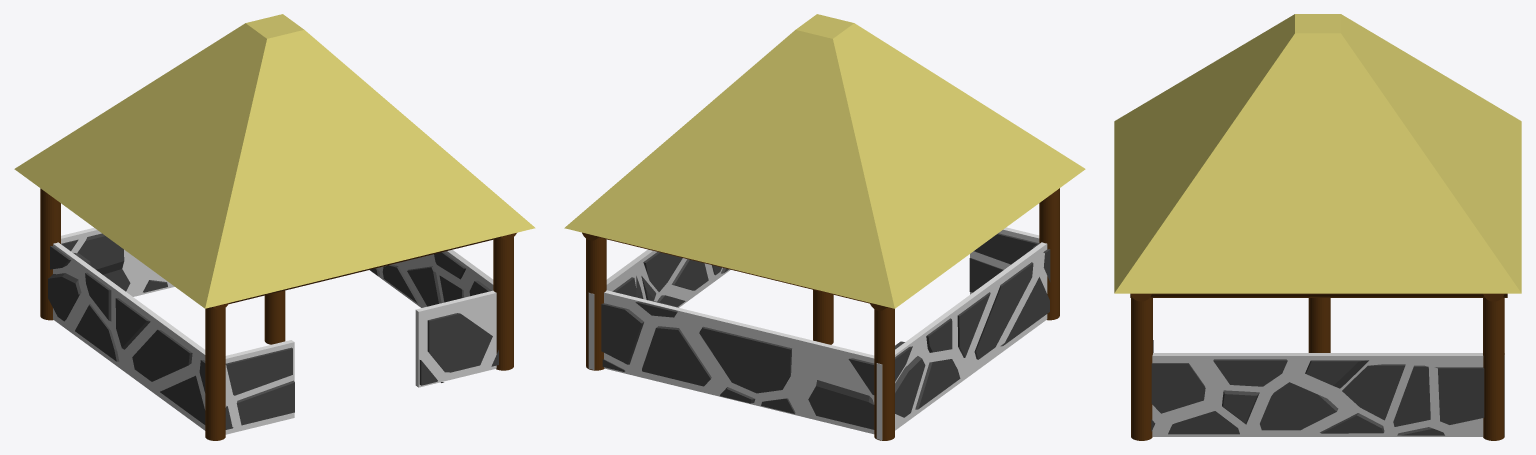
Rendered from Hut.fbx.
3 renders of one model, left to right at view 1: azimuth 30°, elevation 25°; view 2: azimuth 150°, elevation 25°; view 3: azimuth 270°, elevation 25°, orthographic. The views are drawn at different scales.
Parts seen in each view (by area): view 1: Roof, Wall Chunks, Struts, Wall.004, Wall.002, Wall.001, Wall.003, Wall; view 2: Roof, Wall Chunks, Wall, Struts, Wall.004, Wall.003, Wall.001; view 3: Roof, Wall Chunks, Wall.003, Struts.
Part boxes in pixels (<box>): Roof: <box>14,14,535,308</box>; Wall Chunks: <box>48,233,498,429</box>; Struts: <box>40,188,516,440</box>; Wall.004: <box>53,242,205,430</box>; Wall.002: <box>415,290,496,387</box>; Wall.001: <box>225,340,294,434</box>; Wall.003: <box>377,249,493,307</box>; Wall: <box>61,228,174,296</box>; Roof: <box>564,14,1085,308</box>; Wall Chunks: <box>601,233,1050,429</box>; Wall: <box>604,290,874,434</box>; Struts: <box>582,188,1059,440</box>; Wall.004: <box>876,242,1047,440</box>; Wall.003: <box>588,249,730,369</box>; Wall.001: <box>970,227,1039,294</box>; Roof: <box>1114,14,1521,293</box>; Wall Chunks: <box>1151,340,1484,435</box>; Wall.003: <box>1152,353,1504,436</box>; Struts: <box>1130,293,1507,440</box>.
Size of the model in its own units: 148 by 135 by 148.
